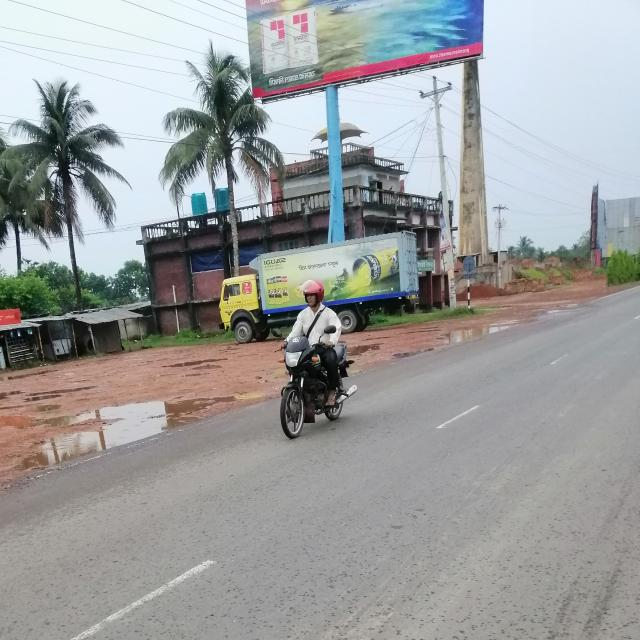Motorbike: (262, 322, 362, 437)
Pick-up-van: (201, 228, 423, 343)
